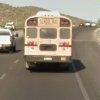Bus: (18, 8, 75, 65)
